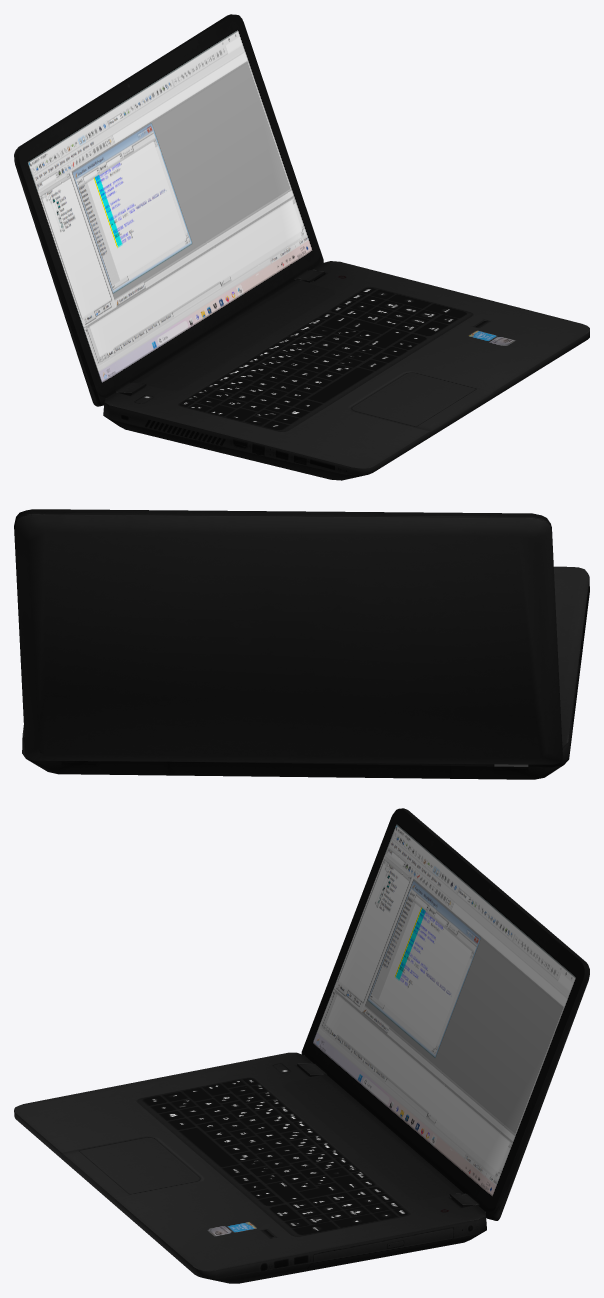
The model's file is NSPortatile.gltf.
The picture shows the model from 3 angles, top to bottom: view 1: azimuth 30°, elevation 25°; view 2: azimuth 150°, elevation 25°; view 3: azimuth 270°, elevation 25°; orthographic projection. The views are drawn at different scales.
Parts seen in each view (by area): view 1: Copia Monitor Laptop; view 2: Copia Monitor Laptop; view 3: Copia Monitor Laptop.
Part boxes in pixels (x1,y1,x2,y2): Copia Monitor Laptop: (14, 14, 589, 480); Copia Monitor Laptop: (14, 509, 589, 779); Copia Monitor Laptop: (14, 808, 589, 1283).
Bounding box in the file's own units: 0.4007 × 0.205 × 0.4086.
Materials: 2 (2 with a texture image).
